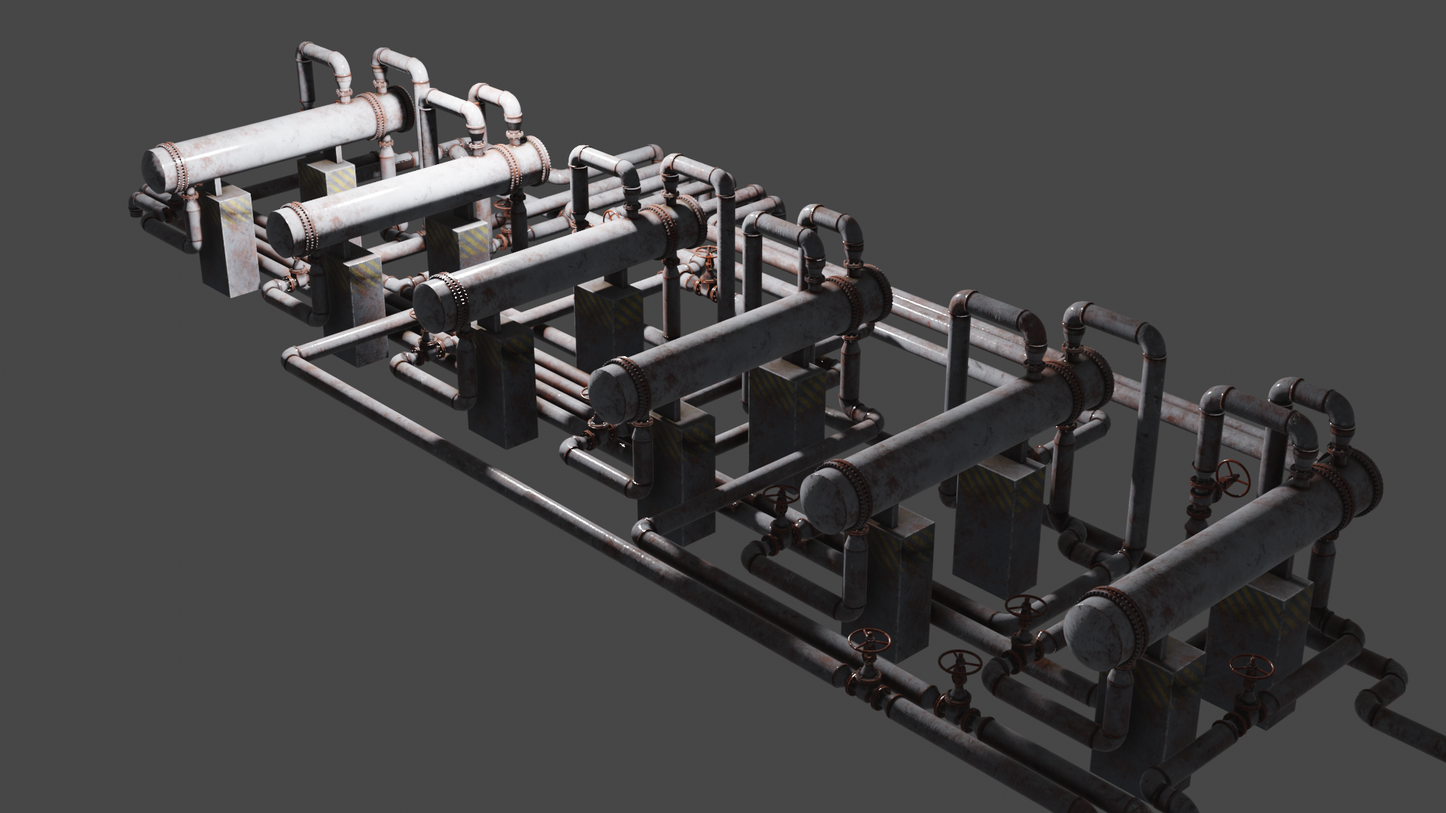HE_1: (1061, 442, 1379, 676)
HE_2: (800, 344, 1111, 543)
HE_3: (579, 265, 898, 422)
HE_4: (408, 188, 708, 337)
HE_5: (261, 134, 554, 259)
HE_6: (143, 83, 413, 196)
